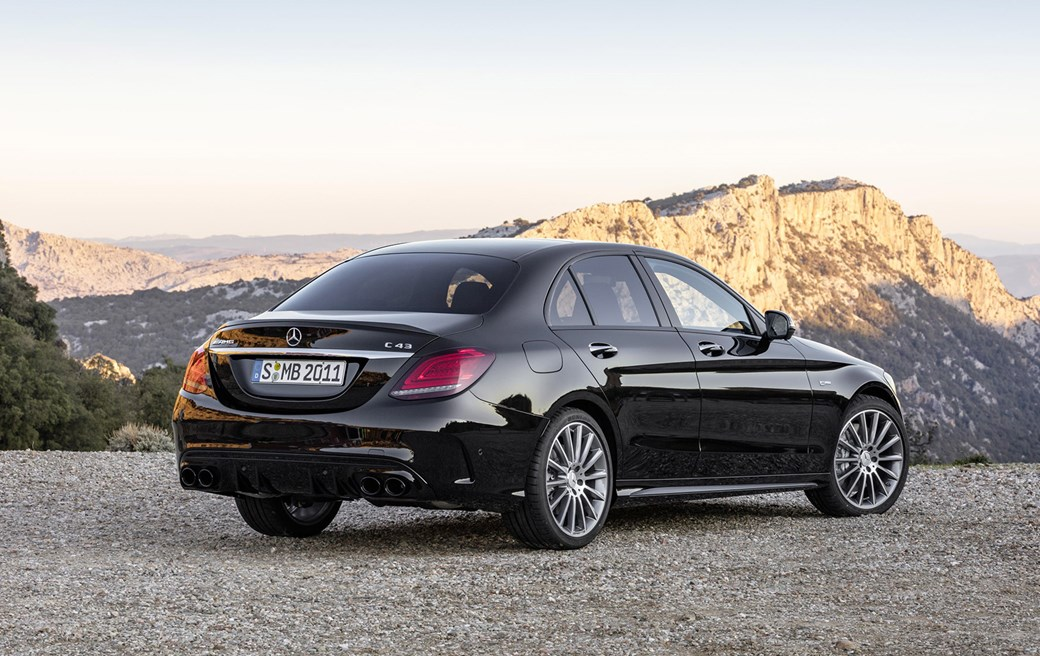cclass: (158, 227, 915, 559)
